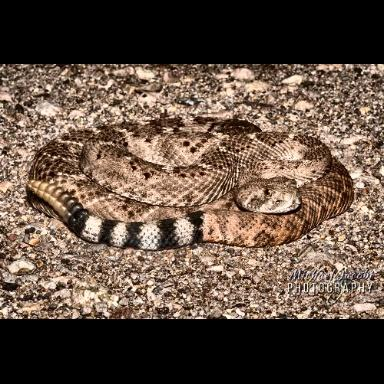snake: (27, 130, 355, 251)
